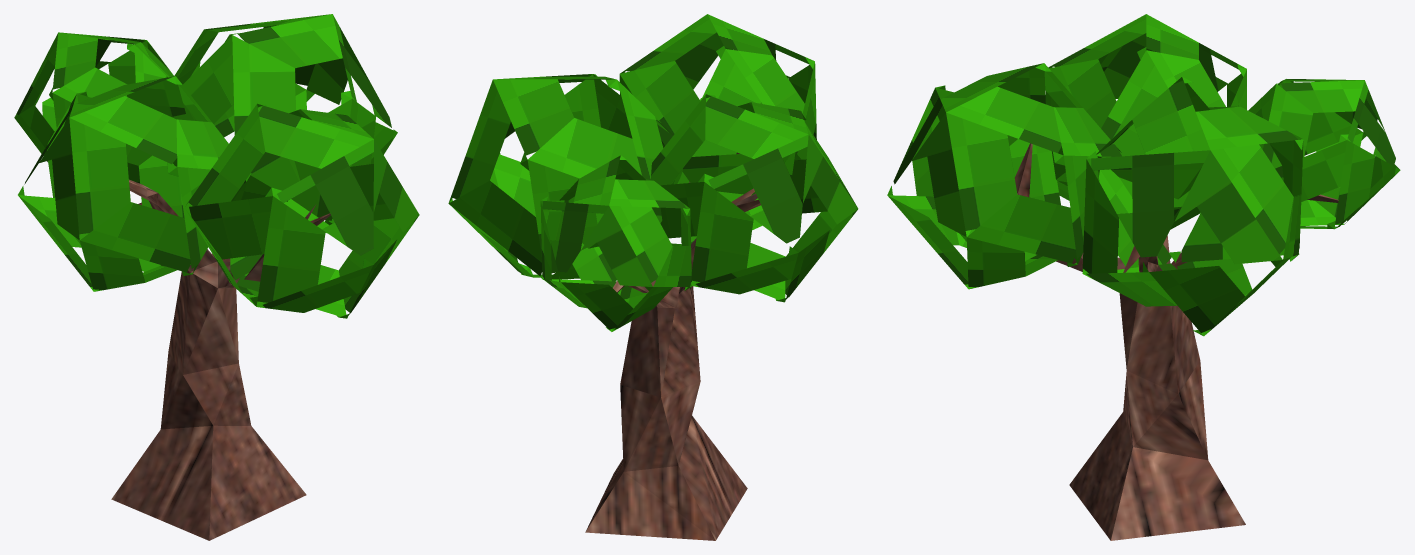
Rendered from WoodWithDuplo.fbx.
3 renders of one model, left to right at view 1: azimuth 30°, elevation 25°; view 2: azimuth 150°, elevation 25°; view 3: azimuth 270°, elevation 25°, orthographic. The views are drawn at different scales.
Visible parts, largest first — view 1: Icosphere.023, Icosphere.020, ДЕРЕВО 2.005, Icosphere.022, Icosphere.021; view 2: Icosphere.020, Icosphere.022, ДЕРЕВО 2.005, Icosphere.021, Icosphere.023; view 3: Icosphere.022, Icosphere.023, ДЕРЕВО 2.005, Icosphere.020, Icosphere.021.
Boxes of the visible parts, x1=… form: Icosphere.023: x1=186, y1=103, x2=419, y2=318; Icosphere.020: x1=18, y1=76, x2=251, y2=291; ДЕРЕВО 2.005: x1=111, y1=179, x2=330, y2=540; Icosphere.022: x1=172, y1=14, x2=397, y2=225; Icosphere.021: x1=14, y1=32, x2=173, y2=183; Icosphere.020: x1=650, y1=94, x2=858, y2=302; Icosphere.022: x1=448, y1=74, x2=682, y2=279; ДЕРЕВО 2.005: x1=585, y1=152, x2=760, y2=540; Icosphere.021: x1=540, y1=155, x2=691, y2=331; Icosphere.023: x1=619, y1=14, x2=816, y2=195; Icosphere.022: x1=1082, y1=77, x2=1303, y2=336; Icosphere.023: x1=887, y1=63, x2=1121, y2=289; ДЕРЕВО 2.005: x1=1014, y1=143, x2=1338, y2=540; Icosphere.020: x1=1045, y1=14, x2=1246, y2=229; Icosphere.021: x1=1248, y1=79, x2=1400, y2=229.
Size of the model in its own units: 613 by 746 by 775.
